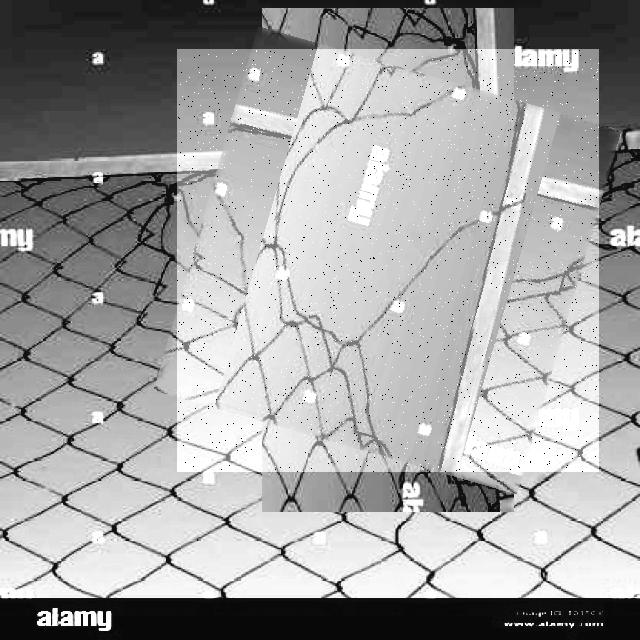anomaly-fence: (177, 49, 599, 472)
